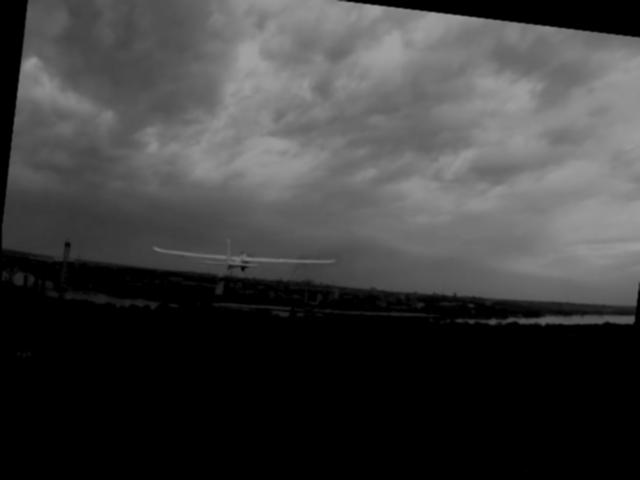hedef: (148, 231, 330, 289)
